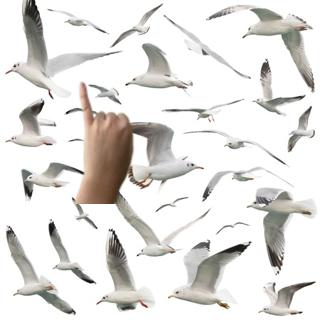FINE: (75, 80, 137, 185)
